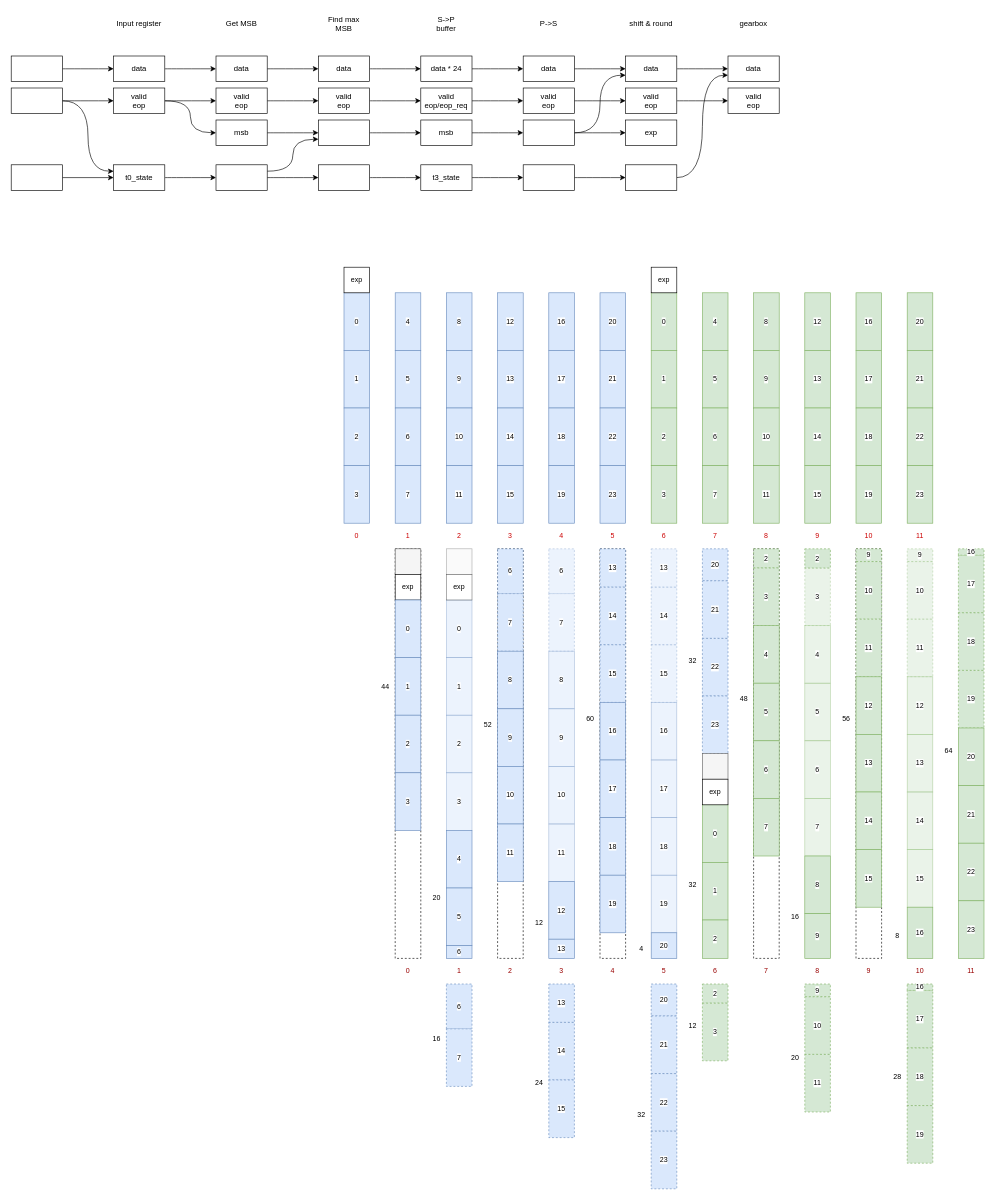
The diagram is 995 pixels wide and 1200 high, and some of its shapes have lost their labels. The shapes that lost their labels are listed below. From the top down, each one's box as (x1, y1, x2, y2) in pixels, then its label:
(11, 55, 62, 82): tdata
(11, 87, 62, 114): tvalid tlast
(318, 119, 370, 146): max_msb
(523, 119, 574, 146): shift/exp
(11, 164, 62, 190): t0_state_pre
(215, 164, 267, 190): t1_state
(318, 164, 370, 190): t2_state
(523, 164, 574, 190): t4_state
(625, 164, 677, 190): t5_state
